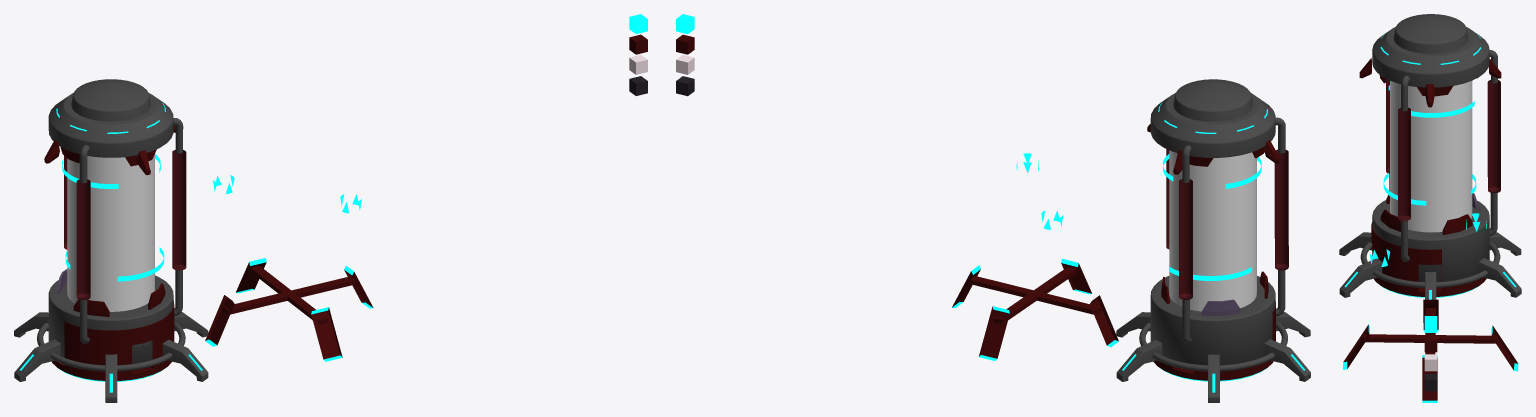
3 views of the same model, side by side, from view 1: azimuth 30°, elevation 25°; view 2: azimuth 150°, elevation 25°; view 3: azimuth 270°, elevation 25° (orthographic). The views are drawn at different scales.
Parts seen in each view (by area): view 1: cockpit_canopy, Cylinder, Cylinder.010, Cylinder.030, Cylinder.002, Cylinder.040, Cube.002, Torus.002, Cylinder.007, Cube, Cylinder.033, Cylinder.019 (+2 smaller); view 2: cockpit_canopy, Cylinder, Cylinder.030, Cylinder.040, Cylinder.032, Cube.002, Cylinder.010, Torus.002, Cylinder.006, Cube, Cylinder.033, Cylinder.029 (+2 smaller); view 3: cockpit_canopy, Cylinder, Cylinder.030, Cylinder.010, Cylinder.032, Cylinder.002, Cube, Torus.002, Cylinder.029, Cylinder.019, Cylinder.005, Cylinder.018 (+19 smaller).
Boxes of the visible parts, <box> form: cockpit_canopy: <box>67,154,154,311</box>; Cylinder: <box>48,79,173,157</box>; Cylinder.010: <box>51,301,174,381</box>; Cylinder.030: <box>48,275,173,363</box>; Cylinder.002: <box>172,150,186,270</box>; Cylinder.040: <box>76,179,90,299</box>; Cube.002: <box>223,276,355,314</box>; Torus.002: <box>37,322,185,371</box>; Cylinder.007: <box>311,307,342,361</box>; Cube: <box>250,265,327,324</box>; Cylinder.033: <box>14,339,60,381</box>; Cylinder.019: <box>162,339,208,381</box>; cockpit_canopy: <box>1169,150,1256,311</box>; Cylinder: <box>1150,79,1275,157</box>; Cylinder.030: <box>1150,276,1275,365</box>; Cylinder.040: <box>1274,149,1288,270</box>; Cylinder.032: <box>1179,179,1192,299</box>; Cube.002: <box>969,276,1101,314</box>; Cylinder.010: <box>1153,302,1275,381</box>; Torus.002: <box>1139,322,1287,371</box>; Cylinder.006: <box>979,306,1009,360</box>; Cube: <box>993,266,1076,324</box>; Cylinder.033: <box>1264,339,1310,381</box>; Cylinder.029: <box>1116,339,1162,381</box>; cockpit_canopy: <box>1390,81,1472,232</box>; Cylinder: <box>1372,14,1489,87</box>; Cylinder.030: <box>1372,200,1489,281</box>; Cylinder.010: <box>1371,222,1486,297</box>; Cylinder.032: <box>1487,80,1500,193</box>; Cylinder.002: <box>1398,107,1410,220</box>; Cube: <box>1364,334,1497,343</box>; Torus.002: <box>1360,242,1500,287</box>; Cylinder.029: <box>1478,258,1521,297</box>; Cylinder.019: <box>1339,258,1382,297</box>; Cylinder.005: <box>1442,214,1472,235</box>; Cylinder.018: <box>1339,232,1372,255</box>.
Size of the model in its own units: 234 by 102 by 62.82.
